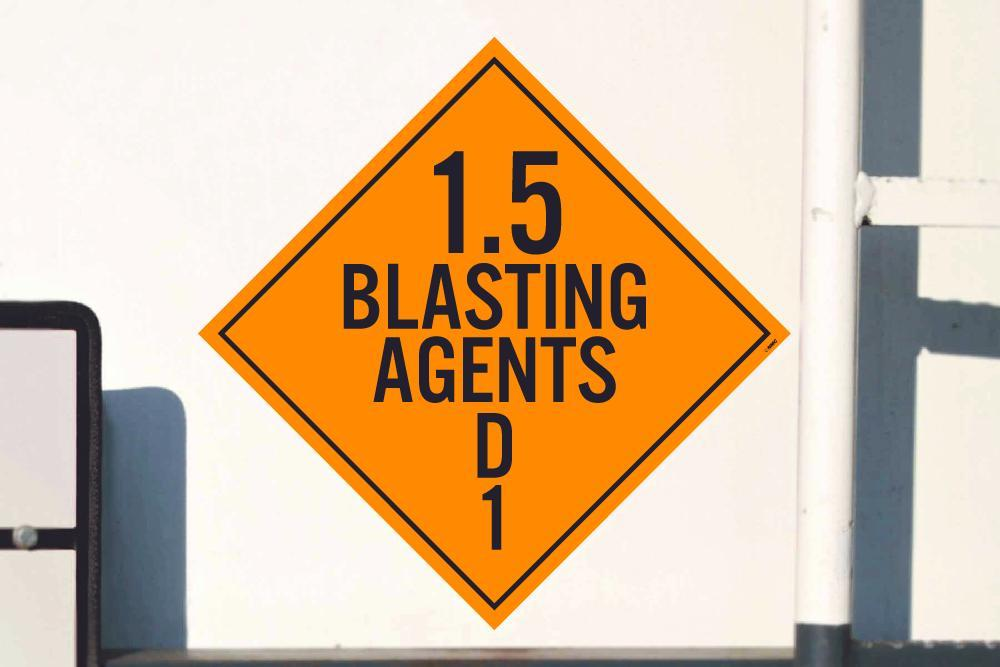explosive: (197, 33, 791, 638)
